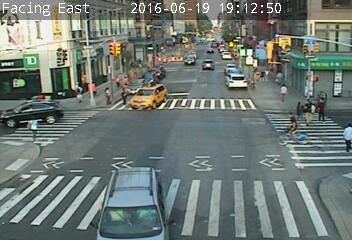neg: (210, 78, 233, 109), (224, 43, 242, 67), (275, 21, 292, 43), (247, 33, 261, 51), (169, 71, 182, 89), (194, 41, 207, 58)
pos: (329, 120, 350, 147), (315, 96, 335, 123), (22, 114, 42, 140), (70, 80, 88, 103), (117, 83, 134, 106), (278, 81, 293, 102), (101, 85, 115, 105), (273, 68, 286, 85)
